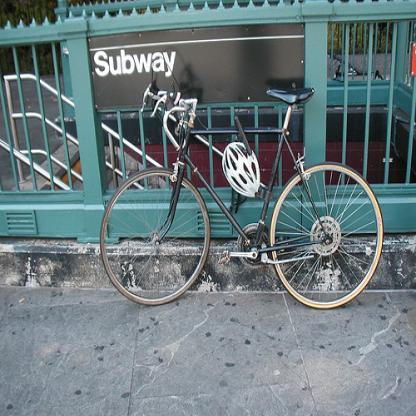bicycle: (98, 82, 384, 311), (329, 51, 384, 82)
